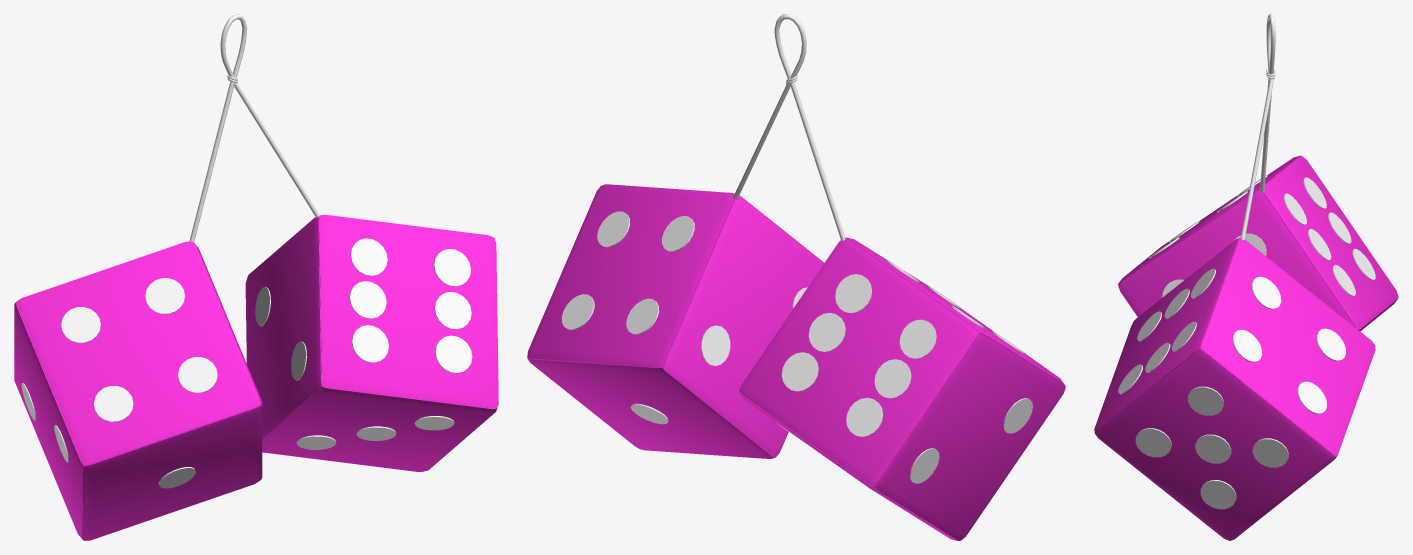
File: Prize_FuzzyDice_Model.FBX
The picture shows the model from 3 angles, left to right: view 1: azimuth 30°, elevation 25°; view 2: azimuth 150°, elevation 25°; view 3: azimuth 270°, elevation 25°; orthographic projection. The views are drawn at different scales.
Parts seen in each view (by area): view 1: BaytekMall_FuzzyDice; view 2: BaytekMall_FuzzyDice; view 3: BaytekMall_FuzzyDice.
Part boxes in pixels (x1,y1,x2,y2): BaytekMall_FuzzyDice: (14, 14, 498, 540); BaytekMall_FuzzyDice: (527, 14, 1065, 540); BaytekMall_FuzzyDice: (1094, 14, 1398, 540).
Bounding box in the file's own units: 38.01 × 40.18 × 24.62.
